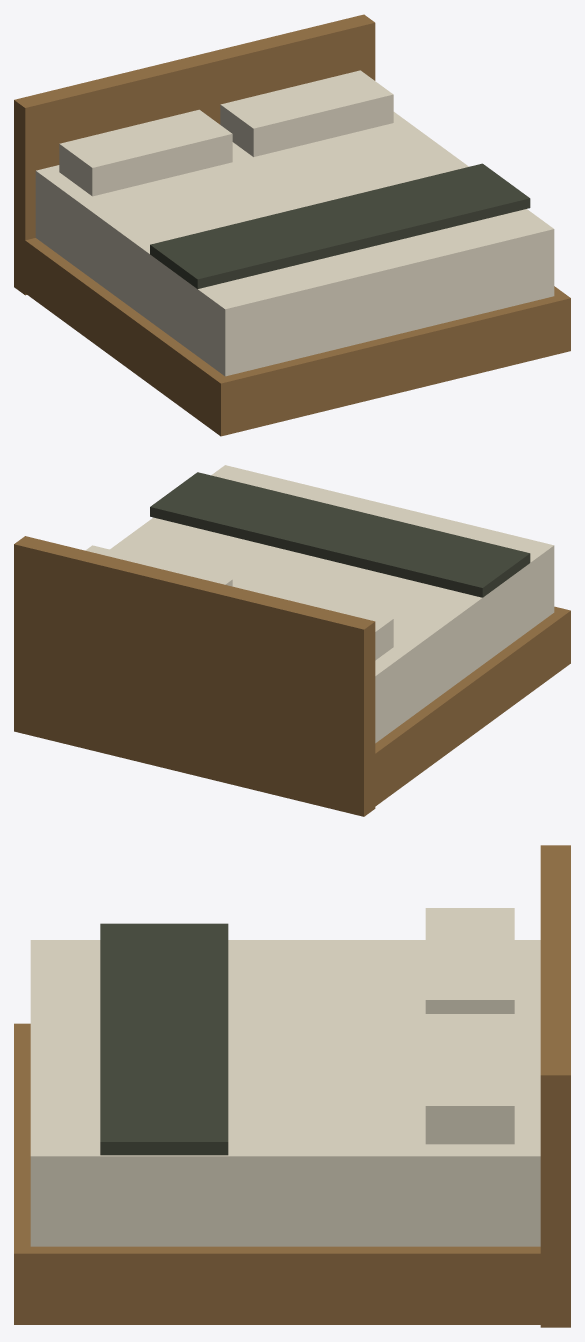
The model's file is bed.glb.
3 renders of one model, top to bottom at view 1: azimuth 30°, elevation 25°; view 2: azimuth 150°, elevation 25°; view 3: azimuth 270°, elevation 25°, orthographic. The views are drawn at different scales.
Visible parts, largest first — view 1: REF-L06-R01-bed-part-2, REF-L06-R01-bed-part-1, REF-L06-R01-bed-part-3, REF-L06-R01-bed-part-6, REF-L06-R01-bed-part-4, REF-L06-R01-bed-part-5; view 2: REF-L06-R01-bed-part-3, REF-L06-R01-bed-part-2, REF-L06-R01-bed-part-6, REF-L06-R01-bed-part-1, REF-L06-R01-bed-part-4, REF-L06-R01-bed-part-5; view 3: REF-L06-R01-bed-part-2, REF-L06-R01-bed-part-1, REF-L06-R01-bed-part-6, REF-L06-R01-bed-part-3, REF-L06-R01-bed-part-5, REF-L06-R01-bed-part-4.
Part boxes in pixels (x1,y1,x2,y2): REF-L06-R01-bed-part-2: (35,112,554,376); REF-L06-R01-bed-part-1: (14,232,570,436); REF-L06-R01-bed-part-3: (14,14,375,295); REF-L06-R01-bed-part-6: (150,163,530,289); REF-L06-R01-bed-part-4: (59,109,232,196); REF-L06-R01-bed-part-5: (220,70,393,156); REF-L06-R01-bed-part-3: (14,536,375,816); REF-L06-R01-bed-part-2: (110,465,554,743); REF-L06-R01-bed-part-6: (150,472,530,597); REF-L06-R01-bed-part-1: (364,606,570,814); REF-L06-R01-bed-part-4: (246,584,393,660); REF-L06-R01-bed-part-5: (85,545,232,586); REF-L06-R01-bed-part-2: (30,940,540,1246); REF-L06-R01-bed-part-1: (14,1023,570,1324); REF-L06-R01-bed-part-6: (100,923,228,1155); REF-L06-R01-bed-part-3: (540,845,570,1327); REF-L06-R01-bed-part-5: (425,1014,514,1144); REF-L06-R01-bed-part-4: (425,908,514,1013).
Bounding box in the file's own units: 0.45 × 0.23 × 0.4605.
